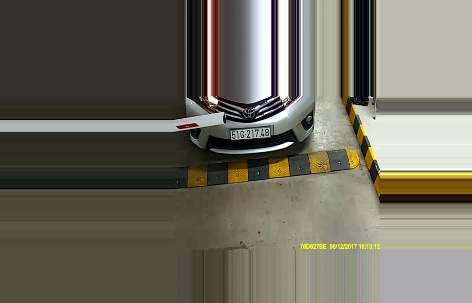plate: (229, 122, 273, 143)
